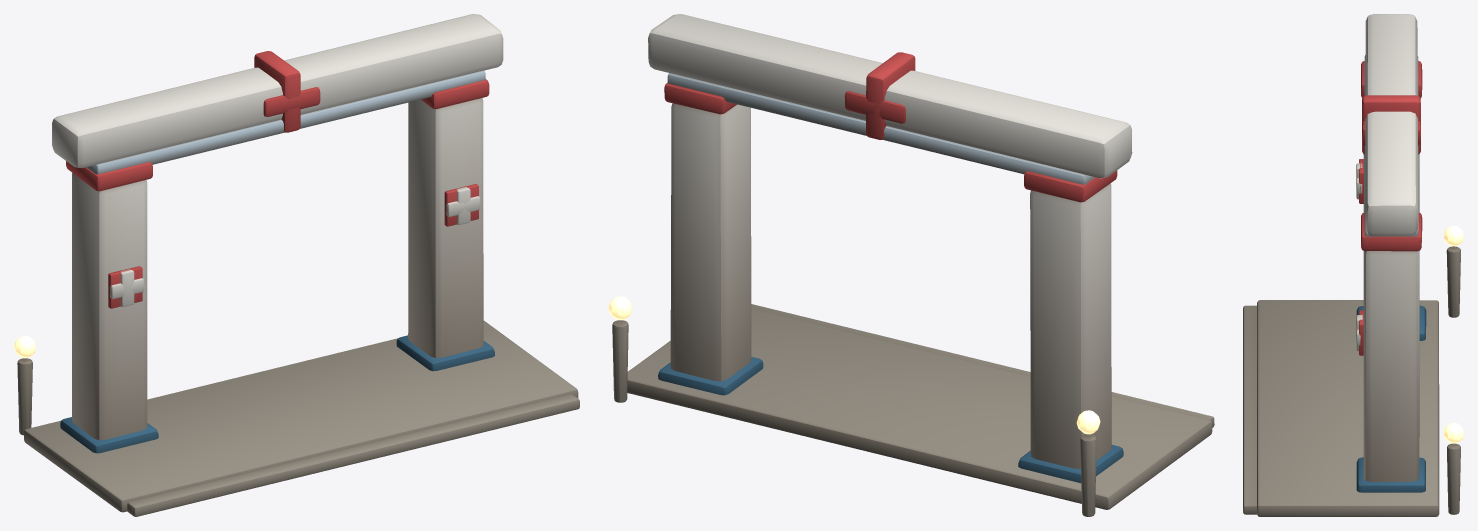
3 renders of one model, left to right at view 1: azimuth 30°, elevation 25°; view 2: azimuth 150°, elevation 25°; view 3: azimuth 270°, elevation 25°, orthographic. The views are drawn at different scales.
Visible parts, largest first — view 1: gate_1853de9c; view 2: gate_1853de9c; view 3: gate_1853de9c.
Part boxes in pixels (box(x1,y1,x2,y2)): gate_1853de9c: box(14, 14, 579, 516); gate_1853de9c: box(608, 14, 1214, 516); gate_1853de9c: box(1243, 14, 1463, 516).
Size of the model in its own units: 5.64 by 4.04 by 2.55.
